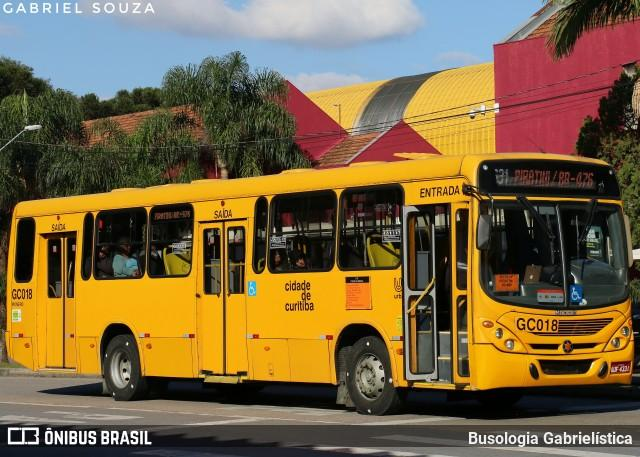PIRATINI: (511, 166, 557, 193)
